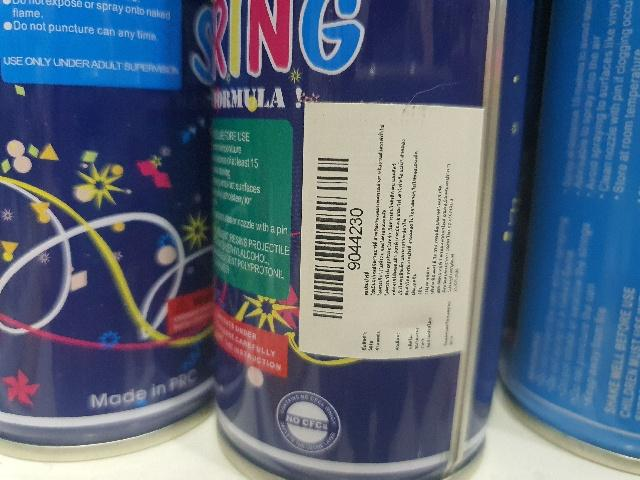Barcode: (308, 150, 365, 324)
